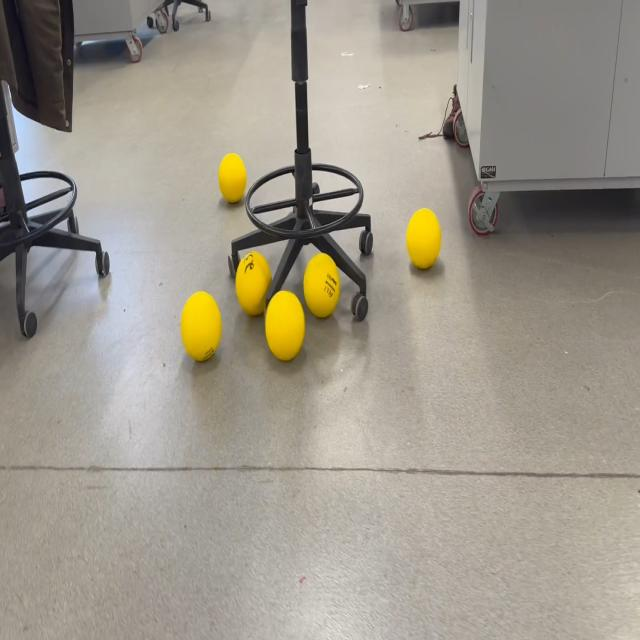Fuel: (181, 291, 222, 362), (265, 290, 305, 362), (303, 252, 340, 318), (235, 251, 272, 316), (406, 208, 441, 269), (218, 153, 247, 203)
